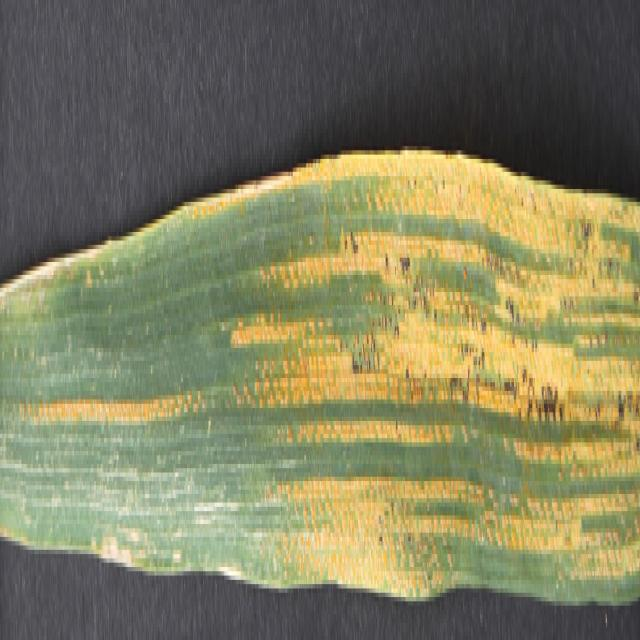leaf rust: (3, 137, 638, 593)
